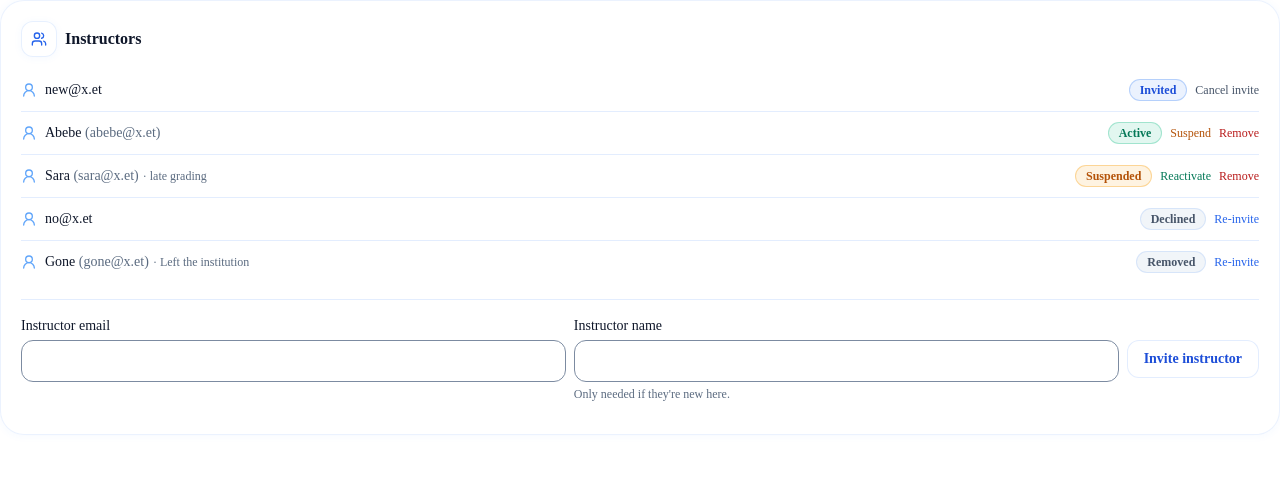
it: InstructorManager › invites from the form and says the person still has to accept
expect the element with test id "member-m1" is shown: met, box x1=21 y1=79 x2=1259 y2=101
Type "tigist@x.et" into the field labelled "Instructor email" at (293, 361), box x1=21 y1=340 x2=566 y2=382
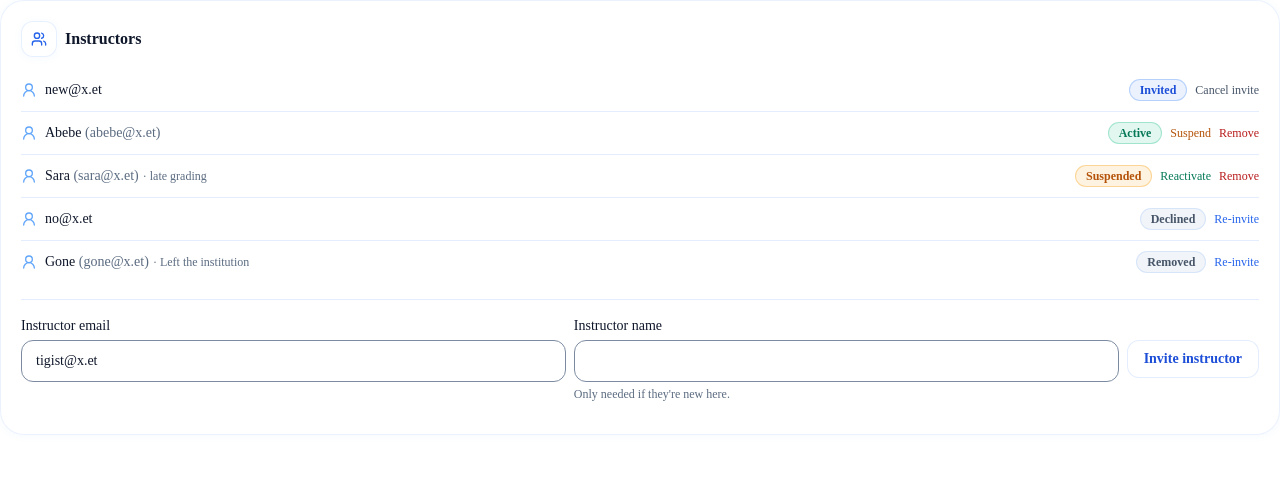
Type "Tigist" into the field labelled "Instructor name" at (846, 361), box x1=574 y1=340 x2=1119 y2=382
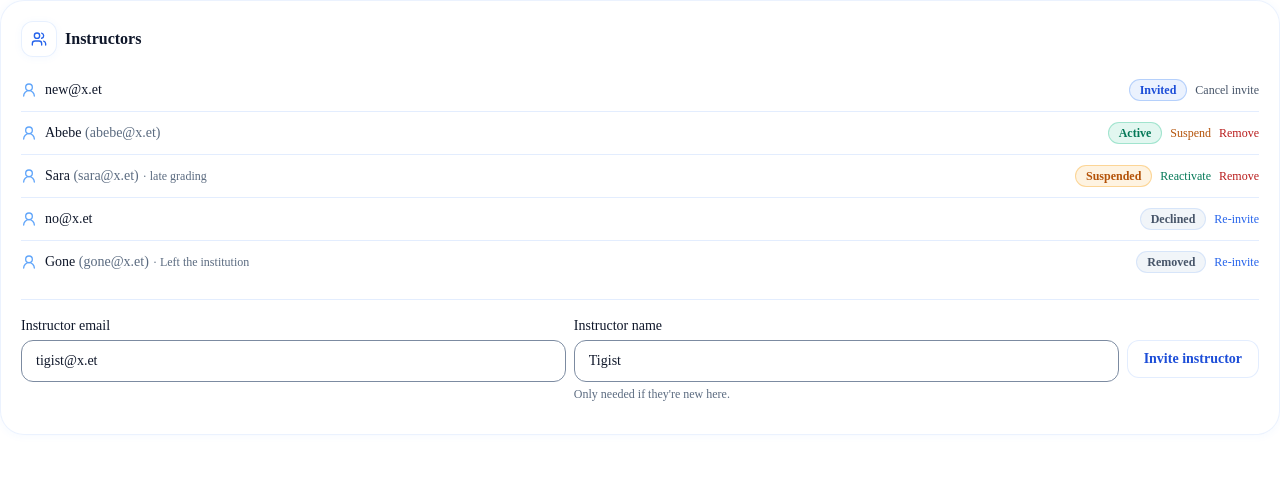
Click the button "Invite instructor" at (1193, 359), box x1=1127 y1=340 x2=1259 y2=378
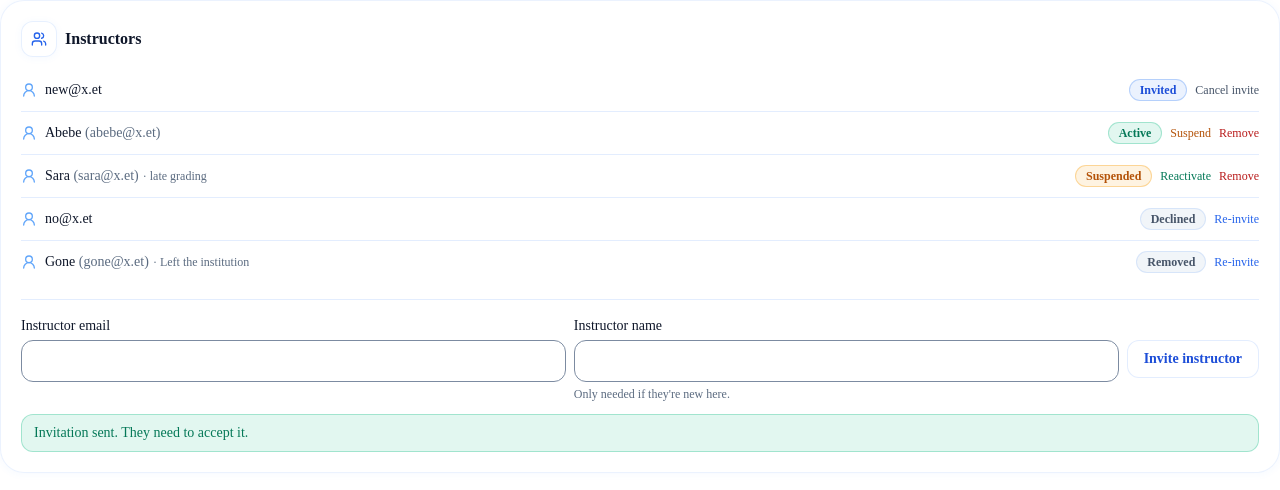
expect the message reads "Invitation sent. They need to accept it.": met, box x1=34 y1=425 x2=248 y2=440
